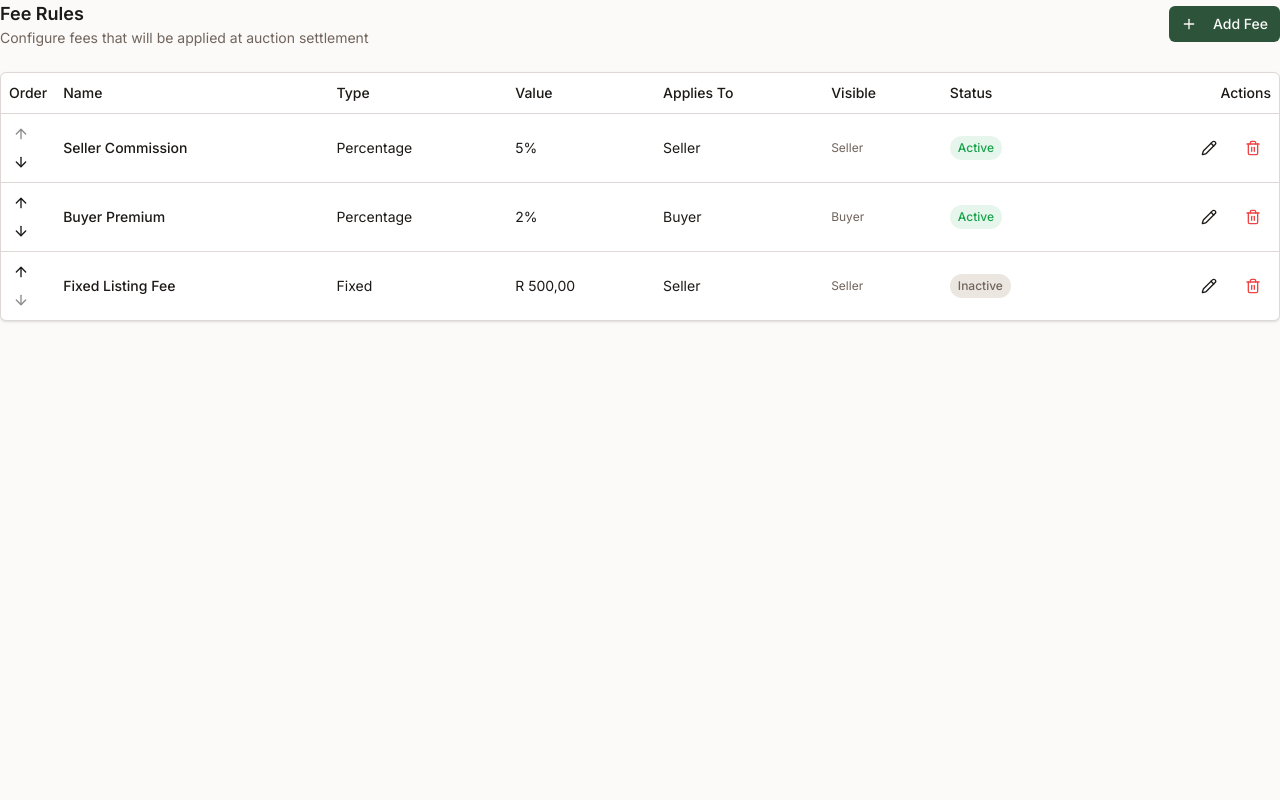
FeeManager › cancels delete operation
Click the button named "delete fee seller commission".
click(1253, 148)  # box [1235,132,1271,164]
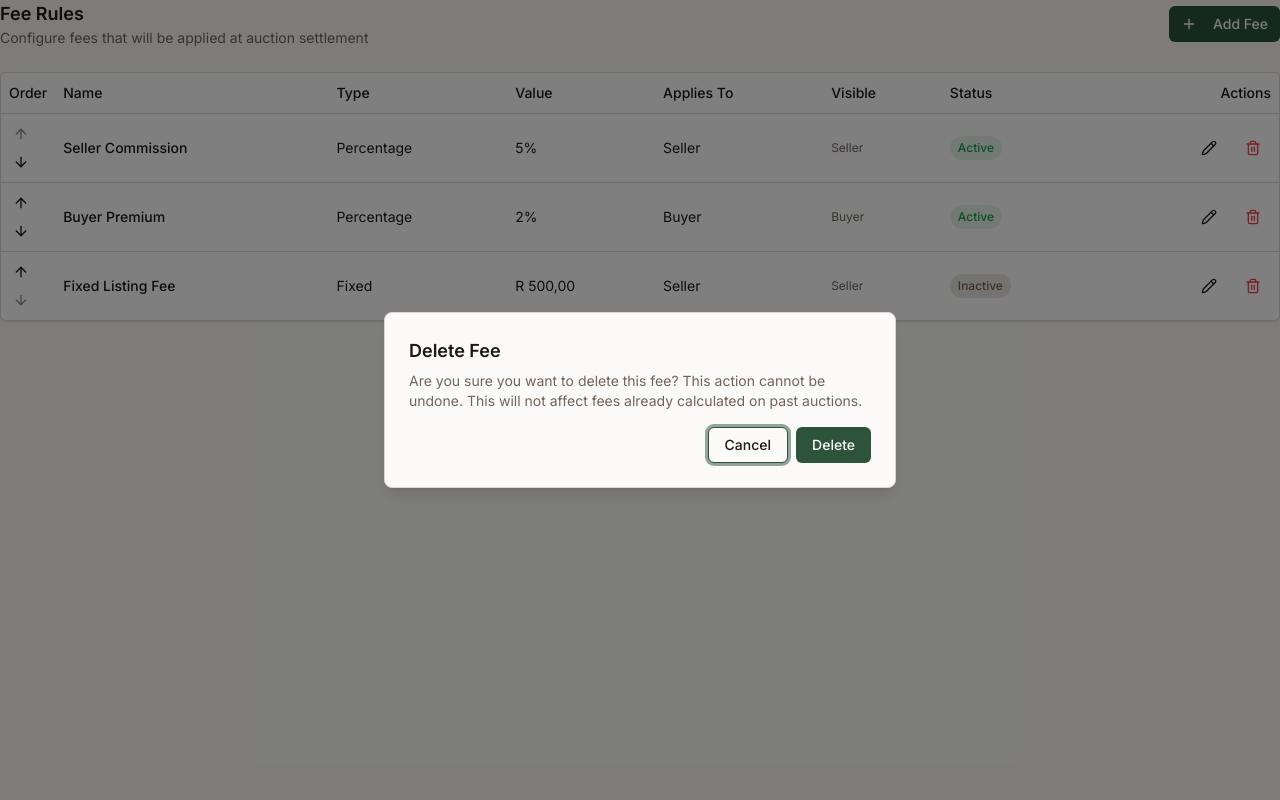
Click the button "Cancel".
click(748, 445)  # box [708,427,788,463]
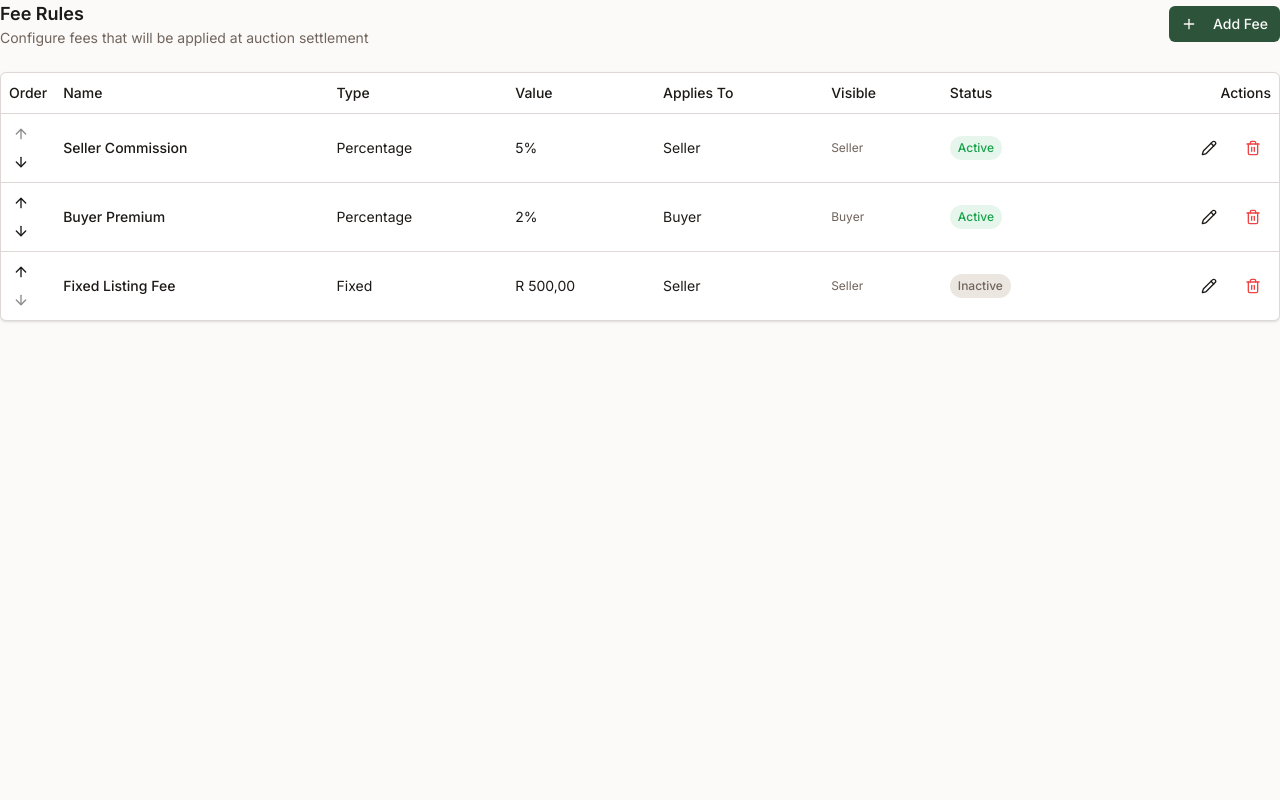
Check: the heading "Delete Fee" is gone
